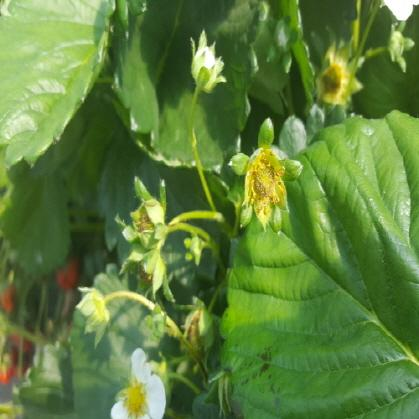Blossom Blight: (242, 146, 287, 223)
